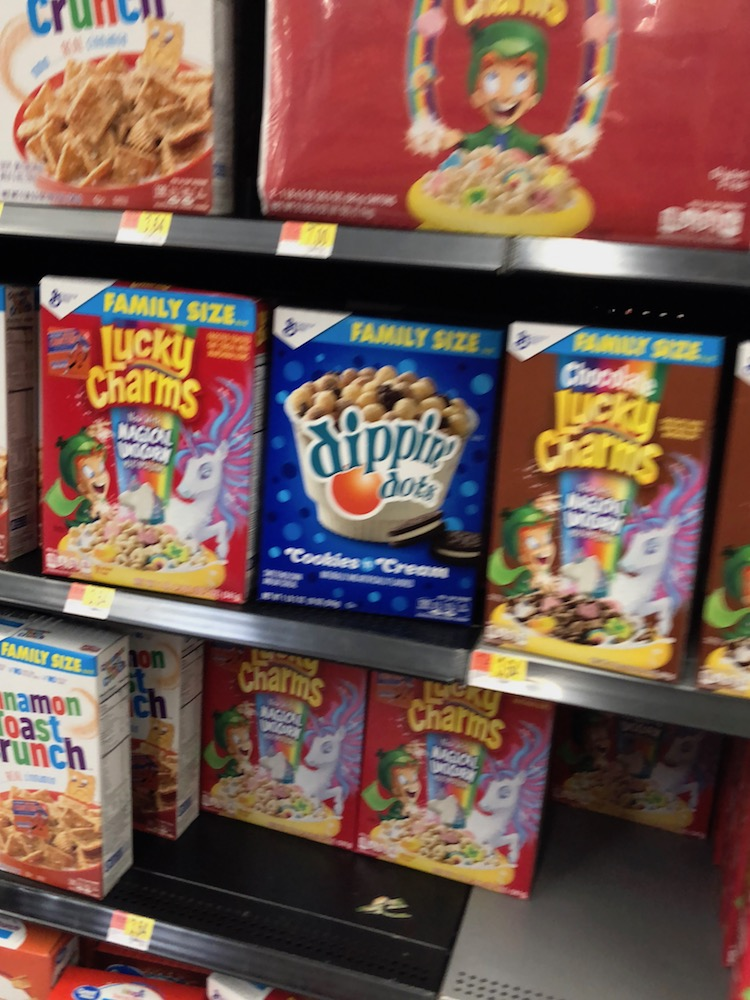Dippin Dots Cookies & Cream -568929378: (247, 304, 493, 624)
